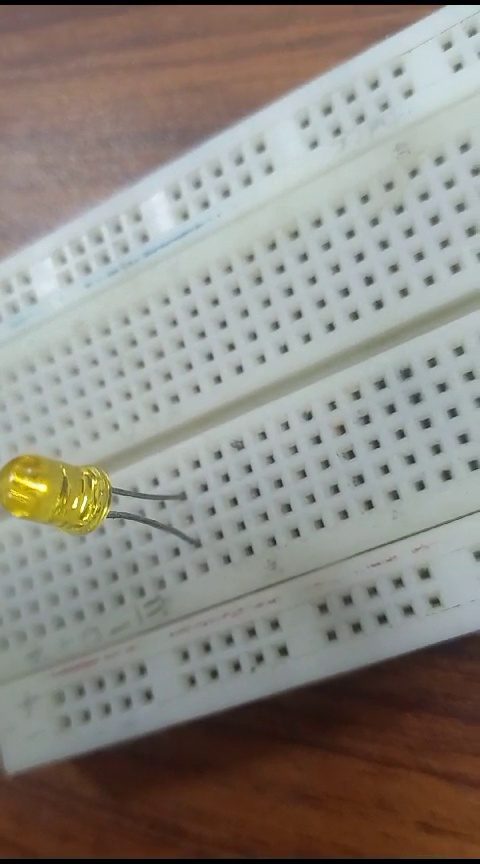LED: (1, 448, 207, 551)
